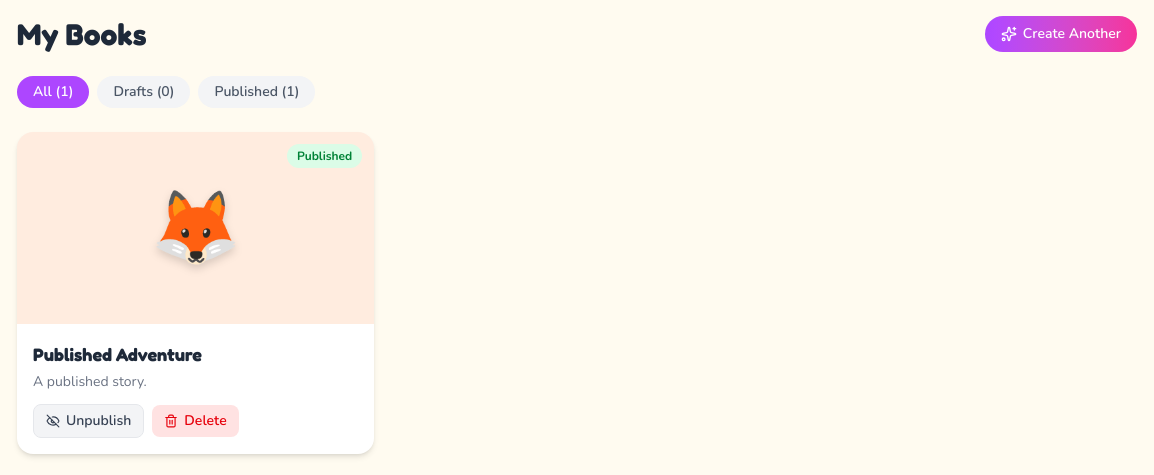
Test: MyBooks — Unpublish › unpublishes a published book on confirm and flips the card to draft
The image size is (1154, 475).
Expected: the text "Published" is shown, x1=287 y1=144 x2=362 y2=168
Click the button with aria-label "unpublish book" at (89, 421), box x1=33 y1=404 x2=144 y2=438
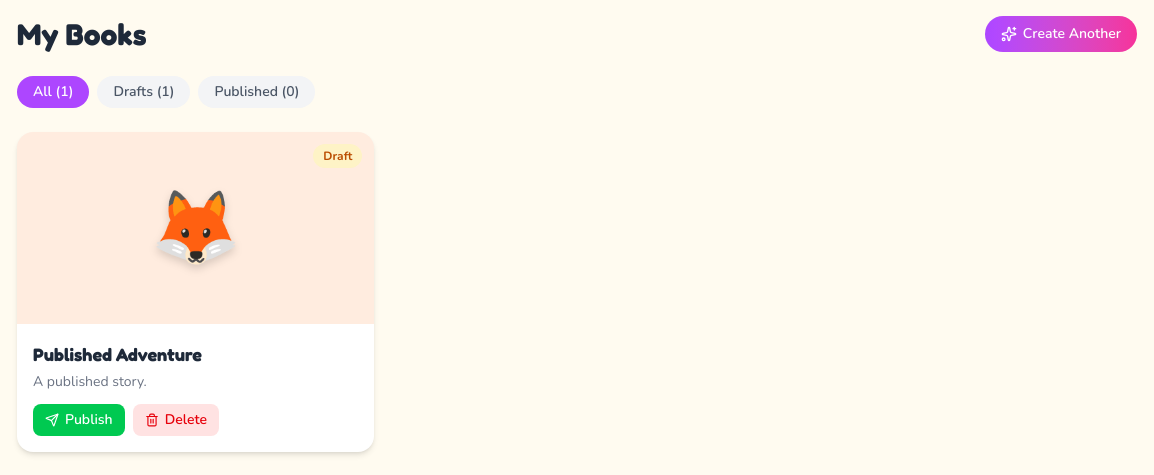
Expected: the button with aria-label "publish book" is shown, x1=33 y1=404 x2=125 y2=436
Expected: the text "Draft" is shown, x1=313 y1=144 x2=362 y2=168
